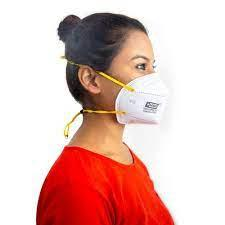OK: (114, 50, 169, 126)
